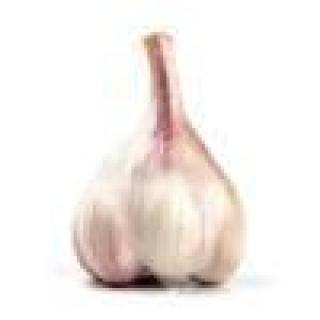Bawang Putih: (52, 27, 273, 299)
